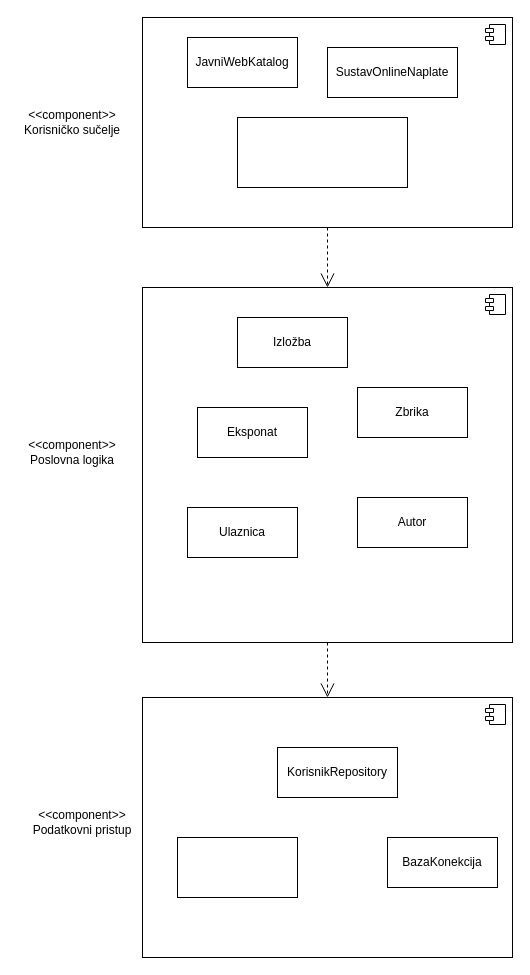
Image size: 530x975. Some labels were removed from this diagram. The centre of each missing label's shape, as x and y in pixels:
EksponatRepository: (x=237, y=867)
KustodijskaUpravljačkaPloča: (x=322, y=152)
